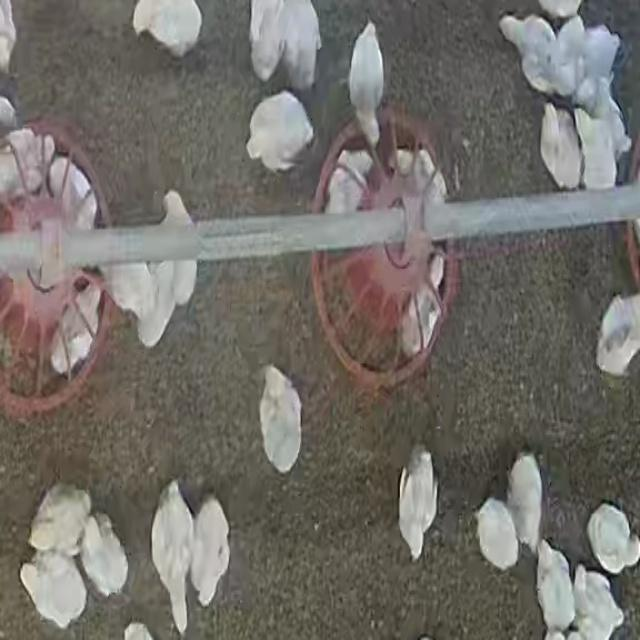chicken: (150, 479, 196, 630), (249, 1, 322, 90), (244, 92, 314, 175), (20, 548, 90, 628), (95, 223, 153, 318), (501, 13, 568, 92), (259, 364, 304, 474), (398, 445, 440, 560), (158, 189, 200, 304), (400, 250, 443, 362), (190, 494, 232, 608), (50, 284, 103, 372), (28, 484, 94, 554), (570, 26, 622, 112), (79, 511, 130, 598), (132, 0, 205, 60), (2, 126, 58, 198), (569, 566, 623, 640), (586, 501, 640, 575), (575, 106, 622, 190), (141, 247, 180, 347), (534, 542, 576, 633), (594, 293, 640, 376), (540, 103, 584, 188), (507, 452, 544, 553), (587, 76, 631, 156), (324, 151, 376, 217), (393, 147, 450, 206), (475, 498, 521, 571), (45, 153, 94, 221), (551, 11, 586, 96)
